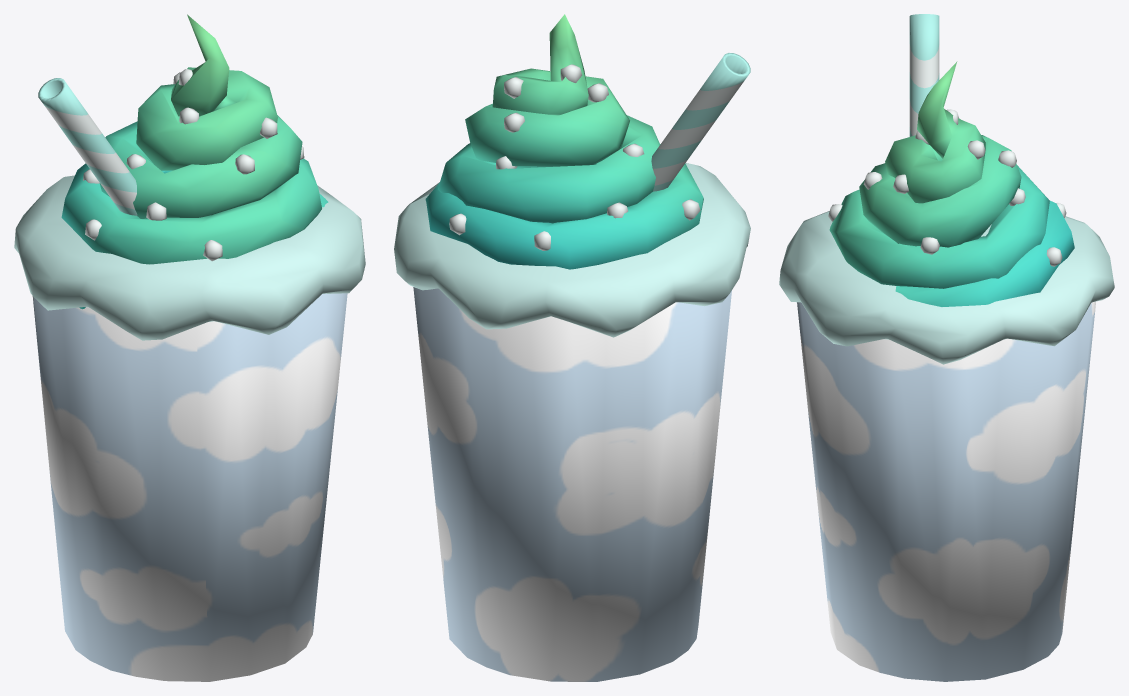
Rendered from Milkshake-1.fbx.
The picture shows the model from 3 angles, left to right: view 1: azimuth 30°, elevation 25°; view 2: azimuth 150°, elevation 25°; view 3: azimuth 270°, elevation 25°; orthographic projection. The views are drawn at different scales.
Visible parts, largest first — view 1: Milkshake-1; view 2: Milkshake-1; view 3: Milkshake-1.
Part boxes in pixels (x1,y1,x2,y2): Milkshake-1: [14, 14, 365, 681]; Milkshake-1: [394, 14, 750, 681]; Milkshake-1: [779, 14, 1114, 681].
Bounding box in the file's own units: 26.6 × 49.16 × 26.08.
